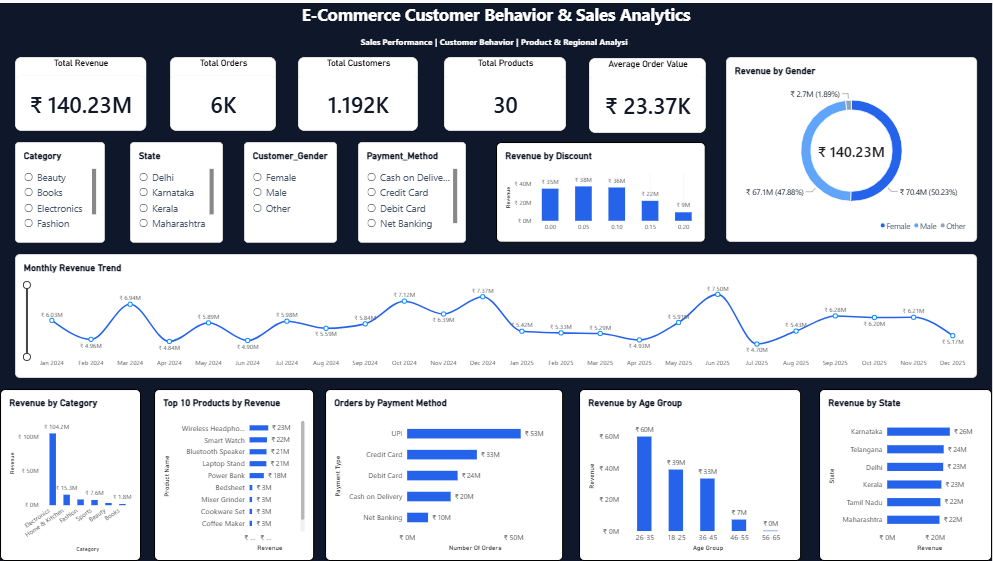

What the dashboard file says about the page in this screenshot:
{"tool":"powerbi","page":{"name":"Page 1","canvas":[1920,1080],"ordinal":0},"visuals":[{"type":"cardVisual","title":"Total Revenue","fields":{"Data":["Sum(ecommerce_db ecommerce_sales.Revenue)"]},"box":[29,104.5,253.5,143.2],"z":0},{"type":"cardVisual","title":"Total Orders","fields":{"Data":["CountNonNull(ecommerce_db ecommerce_sales.Order_ID)"]},"box":[329,104.5,205.2,143.2],"z":1000},{"type":"cardVisual","title":"Total Customers","fields":{"Data":["Count(ecommerce_db ecommerce_sales.Customer_ID)"]},"box":[576.8,104.5,232.3,143.2],"z":2000},{"type":"cardVisual","title":"Total Products","fields":{"Data":["Count(ecommerce_db ecommerce_sales.Product_Name)"]},"box":[859.4,104.5,236.1,143.2],"z":3000},{"type":"cardVisual","title":"Average Order Value","fields":{"Data":["Avg(ecommerce_db ecommerce_sales.Revenue)"]},"box":[1140,106.5,226.5,145.2],"z":4000},{"type":"lineChart","title":"Monthly Revenue Trend","fields":{"Category":["ecommerce_db ecommerce_sales.YearMonth"],"Y":["Sum(ecommerce_db ecommerce_sales.Revenue)"]},"box":[28.9,485.2,1862.4,240.2],"z":5000},{"type":"clusteredColumnChart","title":"Revenue by Category","fields":{"Category":["ecommerce_db ecommerce_sales.Category"],"Y":["Sum(ecommerce_db ecommerce_sales.Revenue)"]},"box":[0,746.9,272.9,332.9],"z":6000},{"type":"barChart","title":"Orders by Payment Method","fields":{"Category":["ecommerce_db ecommerce_sales.Payment_Method"],"Y":["Sum(ecommerce_db ecommerce_sales.Revenue)"]},"box":[629,746.9,460.6,332.9],"z":7000},{"type":"barChart","title":"Top 10 Products by Revenue","fields":{"Category":["ecommerce_db ecommerce_sales.Product_Name"],"Y":["Sum(ecommerce_db ecommerce_sales.Revenue)"]},"box":[297.7,746.9,309.7,332.9],"z":8000},{"type":"columnChart","title":"Revenue by Age Group","fields":{"Category":["ecommerce_db ecommerce_sales.Age_Group"],"Y":["Sum(ecommerce_db ecommerce_sales.Revenue)"]},"box":[1120.6,746.9,429.7,332.9],"z":9000},{"type":"listSlicer","fields":{"Values":["ecommerce_db ecommerce_sales.Category"]},"box":[29,269,174.2,195.5],"z":10000},{"type":"listSlicer","fields":{"Values":["ecommerce_db ecommerce_sales.State"]},"box":[251.6,269,180,195.5],"z":11000},{"type":"listSlicer","fields":{"Values":["ecommerce_db ecommerce_sales.Customer_Gender"]},"box":[472.3,269,180,195.5],"z":12000},{"type":"listSlicer","fields":{"Values":["ecommerce_db ecommerce_sales.Payment_Method"]},"box":[692.9,269,209,195.5],"z":13000},{"type":"barChart","title":"Revenue by State","fields":{"Category":["ecommerce_db ecommerce_sales.State"],"Y":["Sum(ecommerce_db ecommerce_sales.Revenue)"]},"box":[1585.2,746.9,334.8,332.9],"z":14000},{"type":"textbox","box":[0,0,1920,63.9],"z":15000},{"type":"textbox","box":[0,63.9,1920,40.6],"z":16000},{"type":"donutChart","title":"Revenue by  Gender","fields":{"Category":["ecommerce_db ecommerce_sales.Customer_Gender"],"Y":["Sum(ecommerce_db ecommerce_sales.Revenue)"]},"box":[1405.2,104.5,485.8,358.1],"z":17000},{"type":"clusteredColumnChart","title":"Revenue by Discount","fields":{"Category":["ecommerce_db ecommerce_sales.Discount"],"Y":["Sum(ecommerce_db ecommerce_sales.Revenue)"]},"box":[960,269,406.5,195.5],"z":18000}]}

Visuals, with their boxes in screenshot pixels (x1, y1, x2, y2), scaled from the page's 1920x1080 canvas onto the 993x561 screenshot:
"Total Revenue" cardVisual: Rect(15, 54, 146, 129)
"Total Orders" cardVisual: Rect(170, 54, 276, 129)
"Total Customers" cardVisual: Rect(298, 54, 418, 129)
"Total Products" cardVisual: Rect(444, 54, 567, 129)
"Average Order Value" cardVisual: Rect(590, 55, 707, 131)
"Monthly Revenue Trend" lineChart: Rect(15, 252, 978, 377)
"Revenue by Category" clusteredColumnChart: Rect(0, 388, 141, 560)
"Orders by Payment Method" barChart: Rect(325, 388, 564, 560)
"Top 10 Products by Revenue" barChart: Rect(154, 388, 314, 560)
"Revenue by Age Group" columnChart: Rect(580, 388, 802, 560)
listSlicer - ecommerce_db ecommerce_sales.Category: Rect(15, 140, 105, 241)
listSlicer - ecommerce_db ecommerce_sales.State: Rect(130, 140, 223, 241)
listSlicer - ecommerce_db ecommerce_sales.Customer_Gender: Rect(244, 140, 337, 241)
listSlicer - ecommerce_db ecommerce_sales.Payment_Method: Rect(358, 140, 466, 241)
"Revenue by State" barChart: Rect(820, 388, 992, 560)
textbox: Rect(0, 0, 992, 33)
textbox: Rect(0, 33, 992, 54)
"Revenue by  Gender" donutChart: Rect(727, 54, 978, 240)
"Revenue by Discount" clusteredColumnChart: Rect(496, 140, 707, 241)
